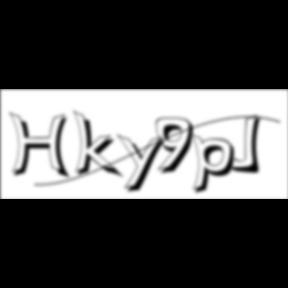9: (156, 117, 200, 177)
H: (9, 112, 75, 182)
J: (228, 114, 268, 176)
k: (74, 108, 126, 181)
p: (192, 132, 242, 198)
y: (117, 132, 171, 196)
